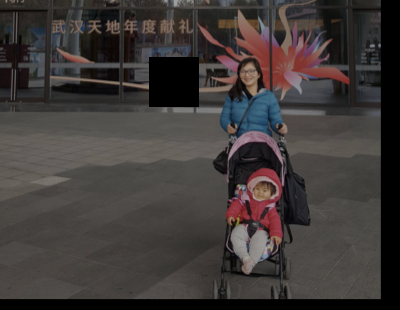without_mask: (239, 65, 257, 83), (253, 181, 269, 199)
